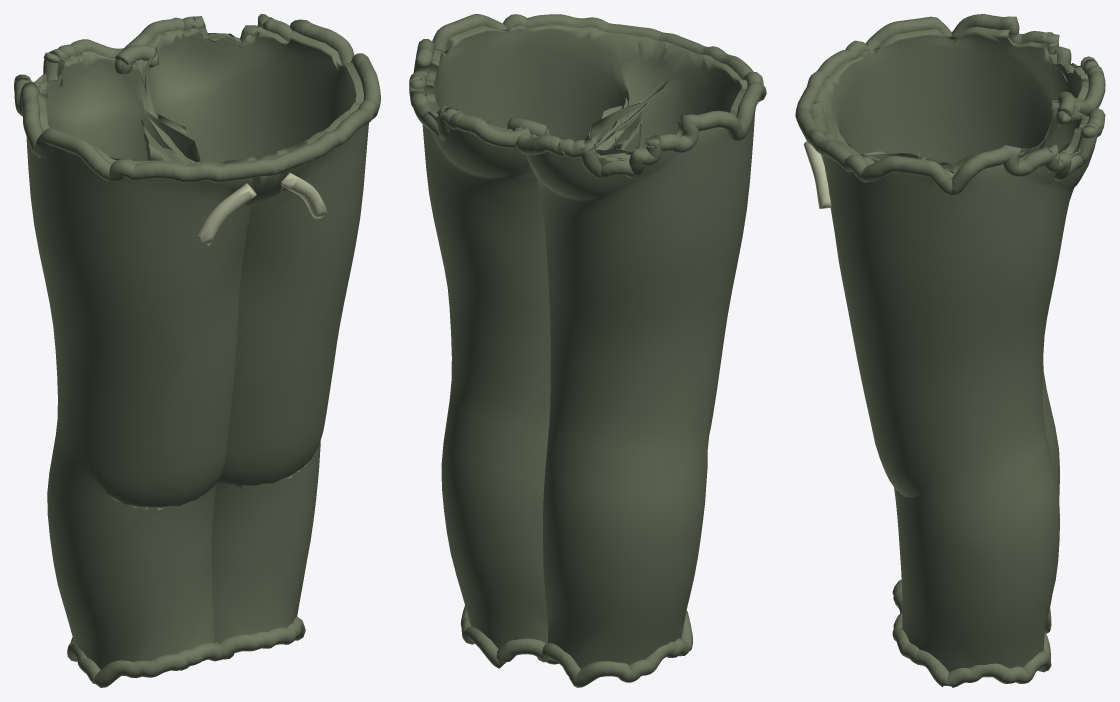
Rendered from 4HT-masculino.glb.
3 views of the same model, side by side, from view 1: azimuth 30°, elevation 25°; view 2: azimuth 150°, elevation 25°; view 3: azimuth 270°, elevation 25° (orthographic). The views are drawn at different scales.
Parts seen in each view (by area): view 1: fitted-shell, bound-edge (×3), pocket--1, pocket-1; view 2: fitted-shell, bound-edge (×3); view 3: fitted-shell, bound-edge (×2), pocket-1.
Boxes of the visible parts, left/top/right/bottom form: fitted-shell: left=26, top=26, right=368, bottom=669; bound-edge (×3): left=14, top=14, right=380, bottom=687; pocket--1: left=196, top=183, right=256, bottom=245; pocket-1: left=281, top=173, right=327, bottom=218; fitted-shell: left=422, top=24, right=755, bottom=668; bound-edge (×3): left=409, top=14, right=766, bottom=687; fitted-shell: left=811, top=26, right=1094, bottom=677; bound-edge (×2): left=795, top=14, right=1105, bottom=687; pocket-1: left=803, top=141, right=831, bottom=208.
Size of the model in its own units: 0.0284 by 0.0497 by 0.0244.
